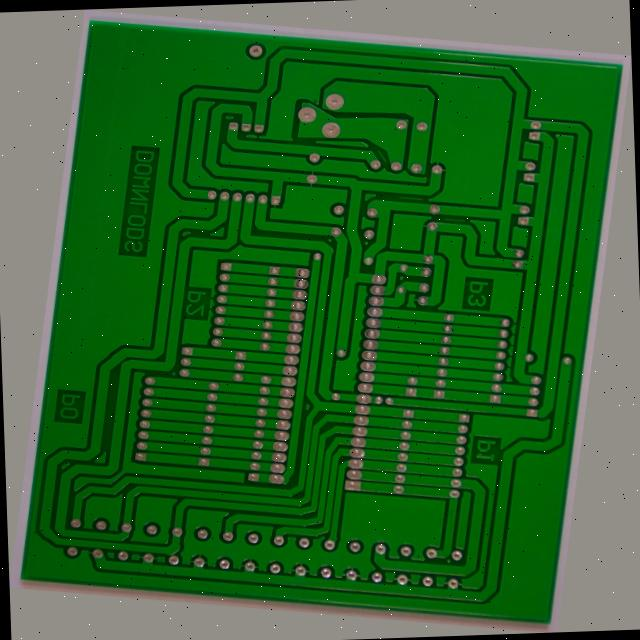spurious_copper: (349, 122, 370, 141), (385, 168, 418, 180), (440, 186, 472, 196)
